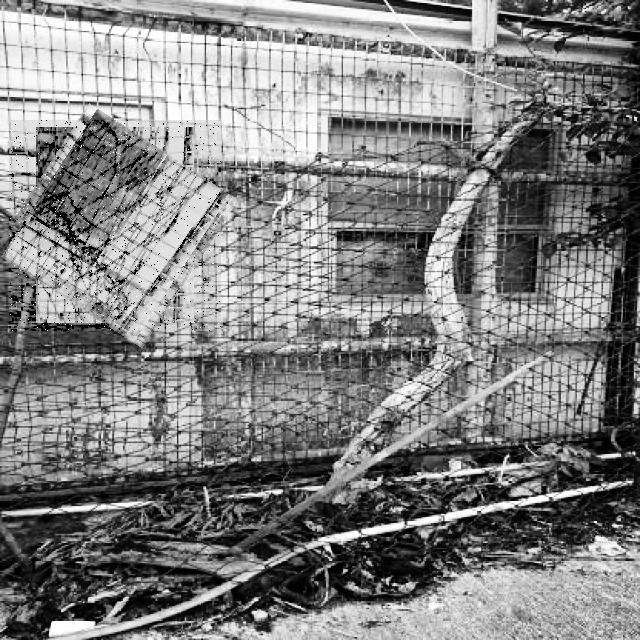anomaly-fence: (9, 120, 221, 331)
